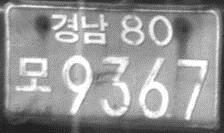0: (147, 14, 174, 46)
3: (100, 55, 131, 119)
6: (136, 56, 170, 120)
7: (174, 55, 209, 121)
8: (120, 13, 145, 47)
9: (59, 52, 94, 114)
경남_O: (49, 12, 109, 47)
모: (13, 55, 53, 93)
